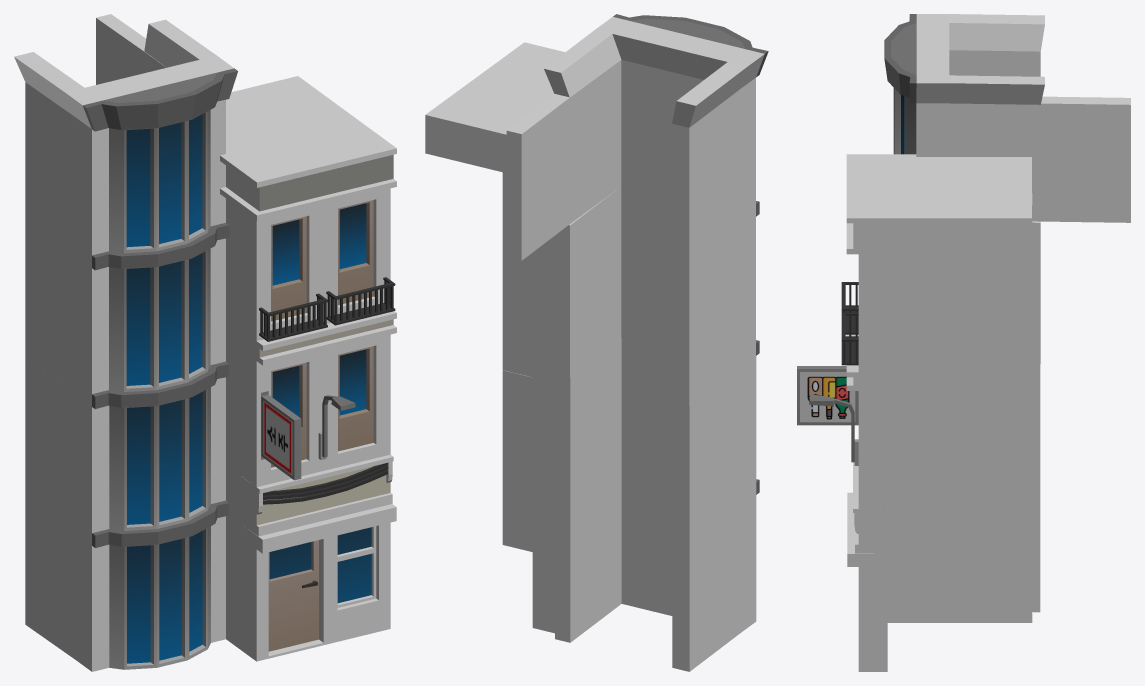
File: B02_Facade_02_B.fbx
3 renders of one model, left to right at view 1: azimuth 30°, elevation 25°; view 2: azimuth 150°, elevation 25°; view 3: azimuth 270°, elevation 25°, orthographic. The views are drawn at different scales.
Visible parts, largest first — view 1: B02_Facade_02_B; view 2: B02_Facade_02_B; view 3: B02_Facade_02_B.
Boxes of the visible parts, x1=… form: B02_Facade_02_B: x1=14, y1=14, x2=396, y2=671; B02_Facade_02_B: x1=425, y1=14, x2=768, y2=671; B02_Facade_02_B: x1=797, y1=14, x2=1130, y2=671.
Size of the model in its own units: 1033 by 2032 by 1154.
